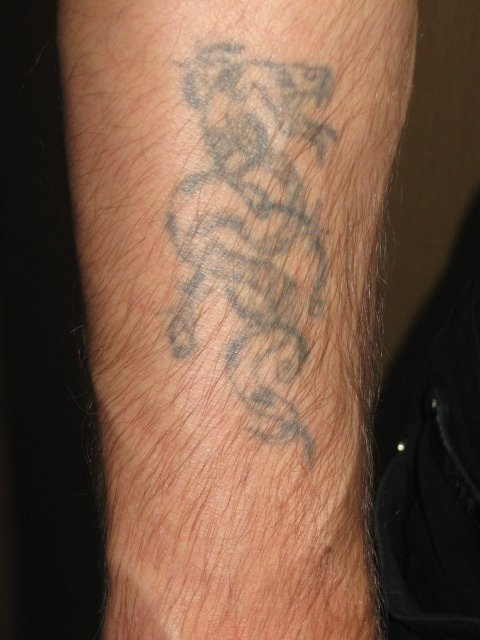tatu7_zmeya: (139, 31, 382, 518)
